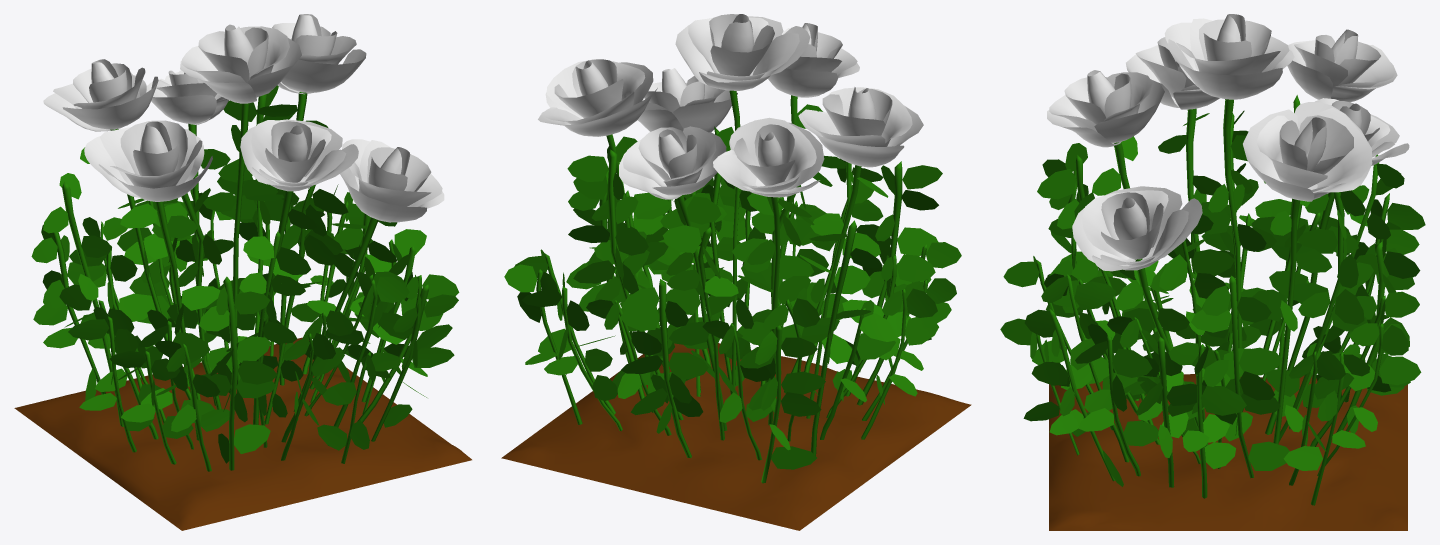
Rendered from white-rose-p4-bloom.glb.
3 renders of one model, left to right at view 1: azimuth 30°, elevation 25°; view 2: azimuth 150°, elevation 25°; view 3: azimuth 270°, elevation 25°, orthographic. The views are drawn at different scales.
Parts seen in each view (by area): view 1: 4_nft_bloom; view 2: 4_nft_bloom; view 3: 4_nft_bloom.
Boxes of the visible parts, x1,y1,x2,y2 form: 4_nft_bloom: [14, 14, 471, 530]; 4_nft_bloom: [501, 14, 971, 530]; 4_nft_bloom: [1000, 14, 1425, 530].
Bounding box in the file's own units: 0.8619 × 0.9393 × 0.8292.
